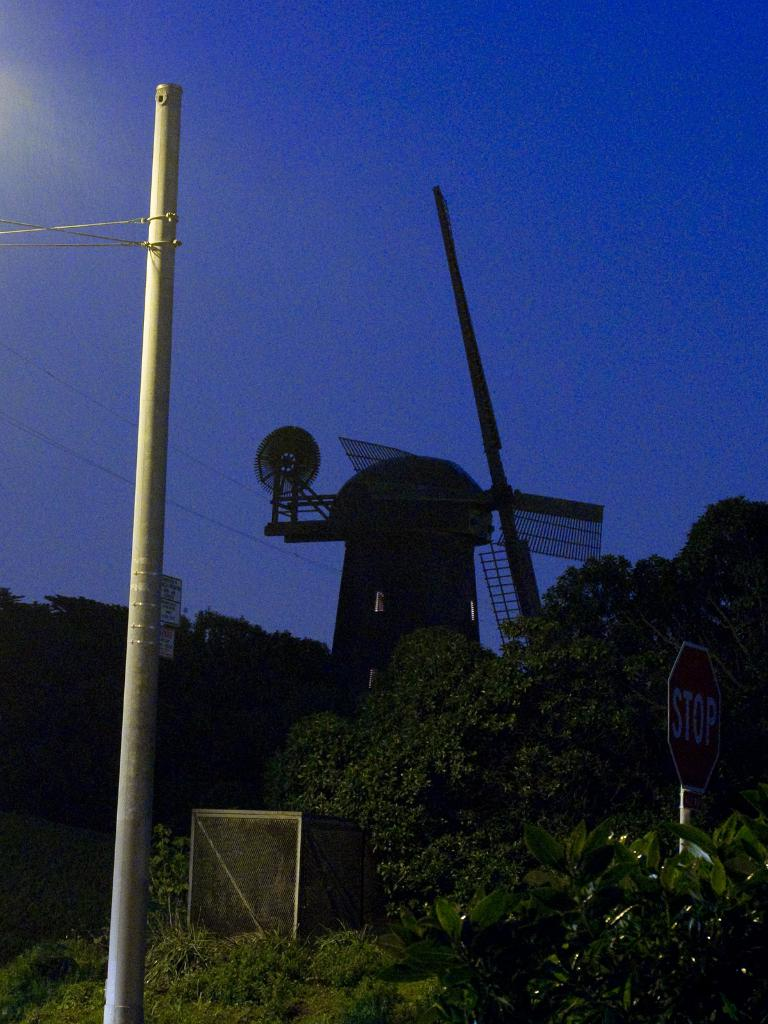Tree: (142, 488, 767, 1023)
